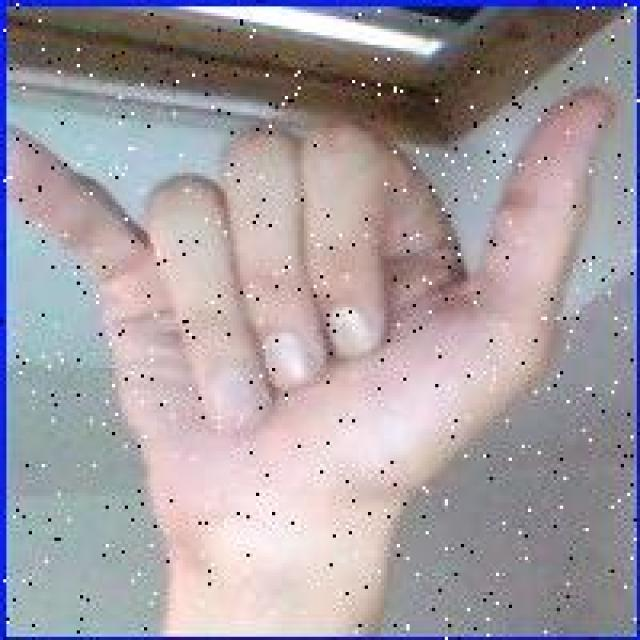Y: (3, 78, 618, 597)
